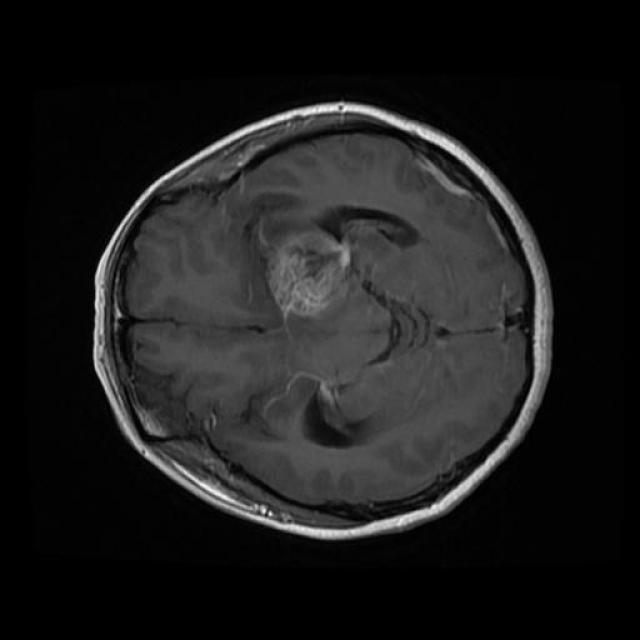Glioma: (269, 224, 350, 318)
